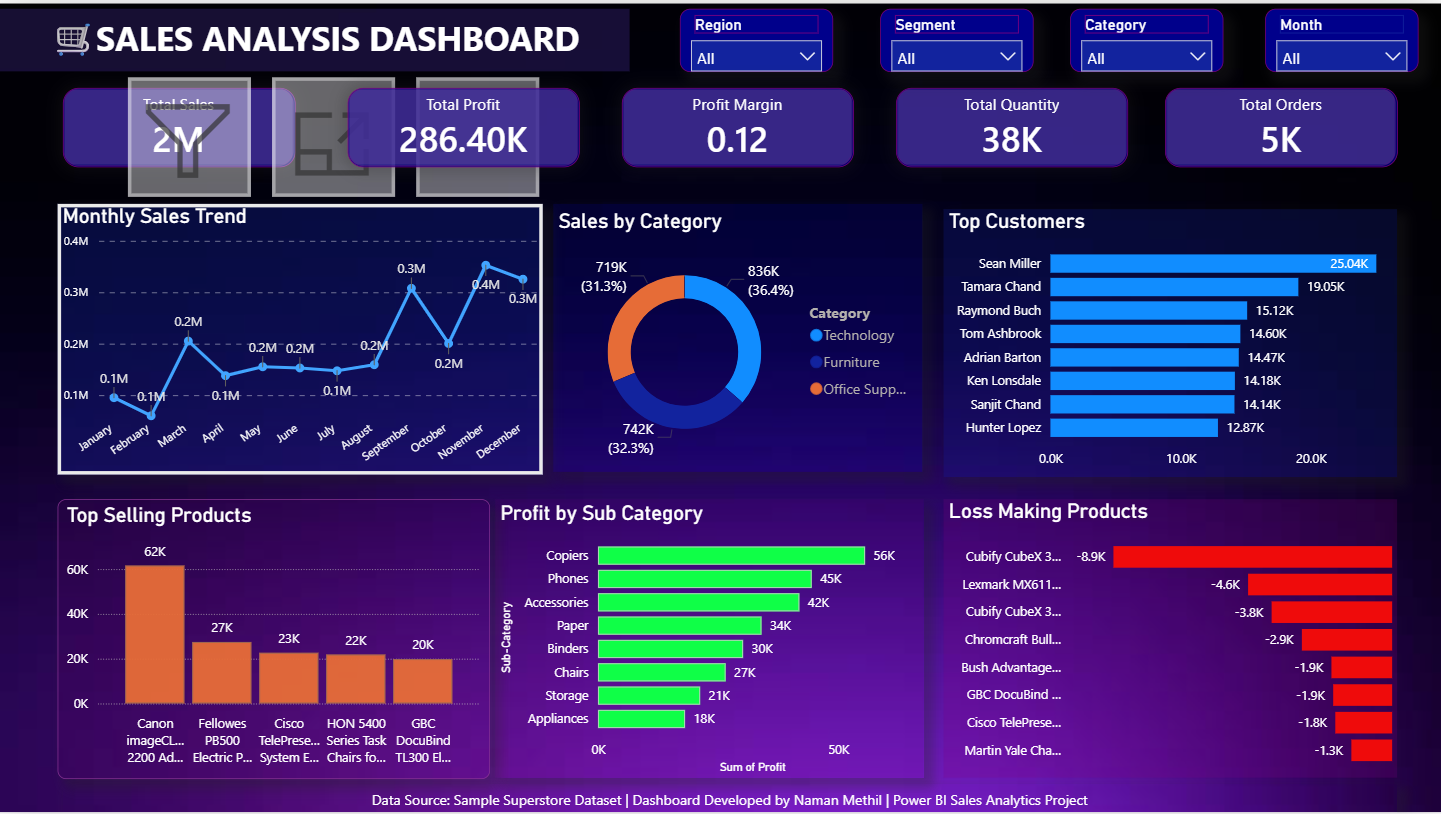

The page's visual inventory and layout, read from the dashboard file:
{"tool":"powerbi","page":{"name":"Page 1","canvas":[1366,768],"ordinal":0},"visuals":[{"type":"textbox","box":[0,5,597.2,59.4],"z":0},{"type":"columnChart","title":"Top Selling Products","fields":{"Category":["sales_data.Product Name"],"Y":["Sum(sales_data.Sales)"]},"box":[52.9,465.7,405.7,264.3],"z":1000},{"type":"cardVisual","fields":{"Data":["sales_data.Total Sales"]},"box":[59.4,81.4,220.6,75],"z":2000},{"type":"lineChart","title":"  Monthly Sales Trend","fields":{"Category":["sales_data.Order Date.Variation.Date Hierarchy.Month"],"Y":["Sum(sales_data.Sales)"]},"box":[53.3,188.3,460,256.7],"z":3000},{"type":"donutChart","title":"Sales by Category","fields":{"Category":["sales_data.Category"],"Y":["sales_data.Total Sales"]},"box":[525.7,188.6,350,254.3],"z":4000},{"type":"clusteredBarChart","title":"Top Customers","fields":{"Y":["sales_data.Total Sales"],"Category":["sales_data.Customer Name"]},"box":[895.7,195.7,430,254.3],"z":5000},{"type":"clusteredBarChart","title":"Profit by Sub Category","fields":{"Y":["Sum(sales_data.Profit)"],"Category":["sales_data.Sub-Category"]},"box":[470,468.6,405.7,264.3],"z":6000},{"type":"clusteredBarChart","title":"Loss Making Products","fields":{"Y":["sales_data.Total Profit"],"Category":["sales_data.Product Name"]},"box":[895.7,468.6,430,264.3],"z":7000},{"type":"slicer","fields":{"Values":["sales_data.Region"]},"box":[646.7,5,145,60],"z":8000},{"type":"cardVisual","fields":{"Data":["sales_data.Total Profit"]},"box":[331.7,81.7,220,75],"z":9000},{"type":"cardVisual","fields":{"Data":["sales_data.Total Quantity"]},"box":[851.7,81.7,220,75],"z":10000},{"type":"cardVisual","fields":{"Data":["sales_data.Total Orders"]},"box":[1102.8,81.4,220.6,75],"z":11000},{"type":"slicer","fields":{"Values":["sales_data.Segment"]},"box":[836.7,5,145,60],"z":12000},{"type":"slicer","fields":{"Values":["sales_data.Category"]},"box":[1015,5,145,60],"z":13000},{"type":"textbox","box":[60,738.9,1264.4,28.9],"z":14000},{"type":"cardVisual","fields":{"Data":["sales_data.Profit Margin"]},"box":[591.7,81.7,220,75],"z":15000},{"type":"slicer","fields":{"Values":["sales_data.Order Date.Variation.Date Hierarchy.Month"]},"box":[1201.7,5,145,60],"z":16000}]}

Visuals, with their boxes in screenshot pixels (x1, y1, x2, y2), scaled from the page's 1366x768 canvas onto the 1441x814 screenshot:
textbox: locate(0, 5, 630, 68)
"Top Selling Products" columnChart: locate(56, 494, 484, 774)
cardVisual - sales_data.Total Sales: locate(63, 86, 295, 166)
"  Monthly Sales Trend" lineChart: locate(56, 200, 541, 472)
"Sales by Category" donutChart: locate(555, 200, 924, 469)
"Top Customers" clusteredBarChart: locate(945, 207, 1398, 477)
"Profit by Sub Category" clusteredBarChart: locate(496, 497, 924, 777)
"Loss Making Products" clusteredBarChart: locate(945, 497, 1398, 777)
slicer - sales_data.Region: locate(682, 5, 835, 69)
cardVisual - sales_data.Total Profit: locate(350, 87, 582, 166)
cardVisual - sales_data.Total Quantity: locate(898, 87, 1131, 166)
cardVisual - sales_data.Total Orders: locate(1163, 86, 1396, 166)
slicer - sales_data.Segment: locate(883, 5, 1036, 69)
slicer - sales_data.Category: locate(1071, 5, 1224, 69)
textbox: locate(63, 783, 1397, 813)
cardVisual - sales_data.Profit Margin: locate(624, 87, 856, 166)
slicer - sales_data.Order Date.Variation.Date Hierarchy.Month: locate(1268, 5, 1421, 69)
